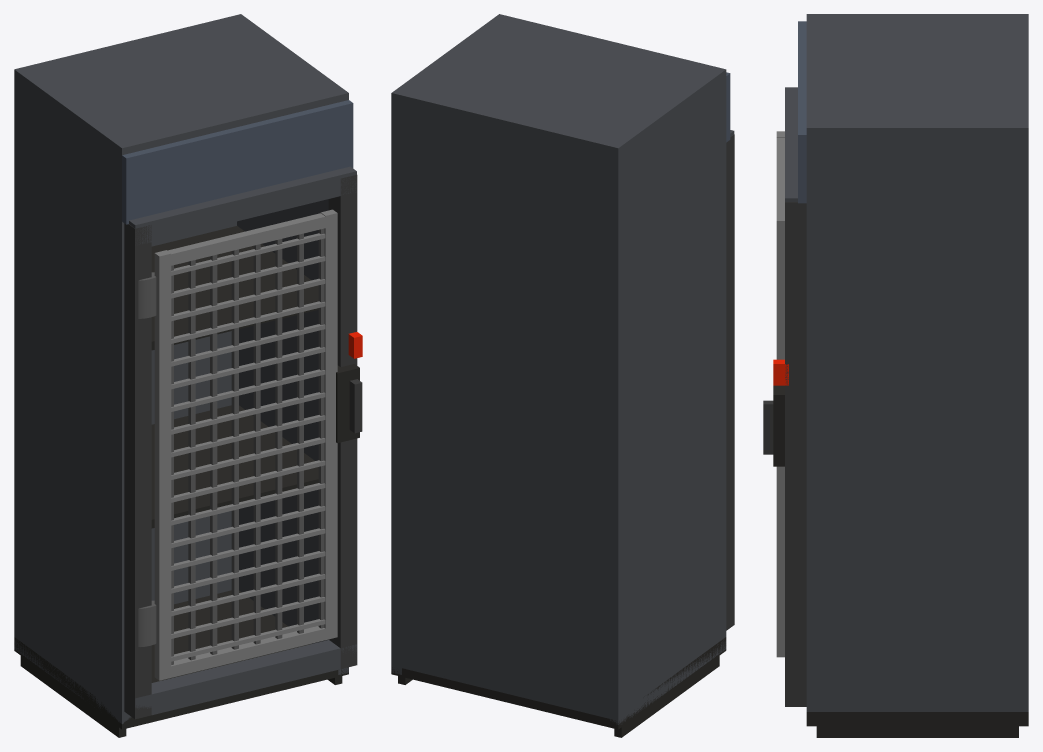
File: CMU3DInheritedLockersGunCabinetCloud.glb
The picture shows the model from 3 angles, left to right: view 1: azimuth 30°, elevation 25°; view 2: azimuth 150°, elevation 25°; view 3: azimuth 270°, elevation 25°; orthographic projection. The views are drawn at different scales.
Parts seen in each view (by area): view 1: full-depth side wall -1, top structural cap, blue-gray header, full-depth side wall 1, outer vertical face stile -0.308, rear structural panel, outer vertical face stile 0.308, mesh door vertical frame -0.254, interior shelf 0.58, outer horizontal face rail 0.085, interior shelf 1.09, bottom pan (+35 smaller); view 2: rear structural panel, full-depth side wall -1, top structural cap, full-depth side wall 1, outer vertical face stile -0.308, bottom pan, grounded cabinet foot -1; view 3: full-depth side wall 1, top structural cap, outer vertical face stile 0.308, rear structural panel, bottom pan, mesh door vertical frame 0.244, grounded cabinet foot 1, blue-gray header, outer horizontal face rail 1.44, full-depth side wall -1, handle root, mesh door horizontal frame 1.37 (+1 smaller).
Boxes of the visible parts, box(x1,y1,x2,y2) form: full-depth side wall -1: box(14, 67, 132, 724); top structural cap: box(14, 16, 348, 161); blue-gray header: box(122, 100, 353, 224); full-depth side wall 1: box(231, 14, 348, 674); outer vertical face stile -0.308: box(124, 223, 151, 719); rear structural panel: box(14, 14, 247, 644); outer vertical face stile 0.308: box(328, 174, 357, 668); mesh door vertical frame -0.254: box(154, 250, 171, 680); interior shelf 0.58: box(151, 405, 318, 528); outer horizontal face rail 0.085: box(135, 640, 356, 715); interior shelf 1.09: box(151, 226, 318, 350); bottom pan: box(14, 590, 348, 729); rear structural panel: box(391, 88, 624, 720); full-depth side wall -1: box(607, 66, 726, 724); top structural cap: box(391, 15, 725, 161); full-depth side wall 1: box(391, 14, 509, 674); outer vertical face stile -0.308: box(726, 134, 734, 630); bottom pan: box(391, 637, 726, 729); grounded cabinet foot -1: box(614, 656, 719, 737); full-depth side wall 1: box(806, 122, 1028, 711); top structural cap: box(806, 14, 1028, 142); outer vertical face stile 0.308: box(785, 202, 806, 706); rear structural panel: box(1015, 14, 1028, 711); bottom pan: box(806, 712, 1028, 726); mesh door vertical frame 0.244: box(776, 215, 784, 657); grounded cabinet foot 1: box(816, 726, 1018, 737); blue-gray header: box(798, 21, 806, 203); outer horizontal face rail 1.44: box(785, 87, 797, 201); full-depth side wall -1: box(806, 14, 1028, 19); handle root: box(773, 385, 784, 466); mesh door horizontal frame 1.37: box(776, 138, 784, 232).
Size of the model in its own units: 0.68 by 1.7 by 0.67.
